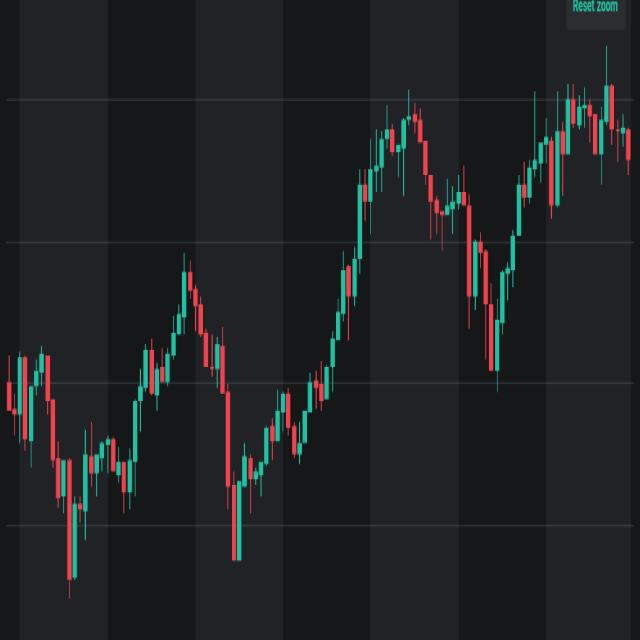Head-Shoulders: (125, 249, 241, 539)
Resistance-breakout: (149, 82, 424, 570)
